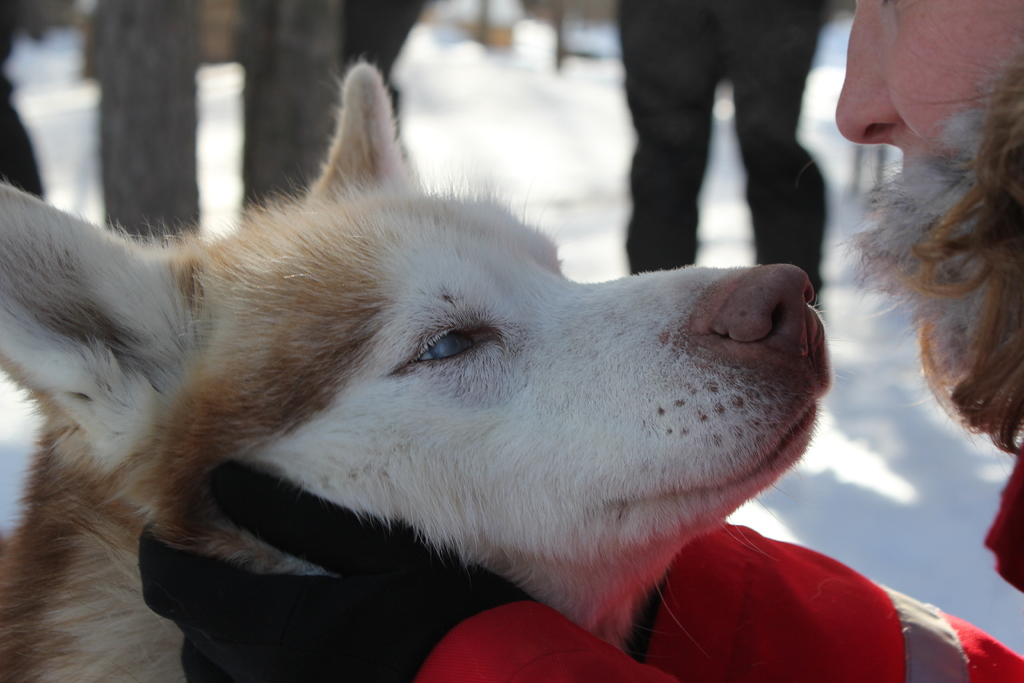Person: (833, 0, 1024, 597), (616, 0, 828, 307)
